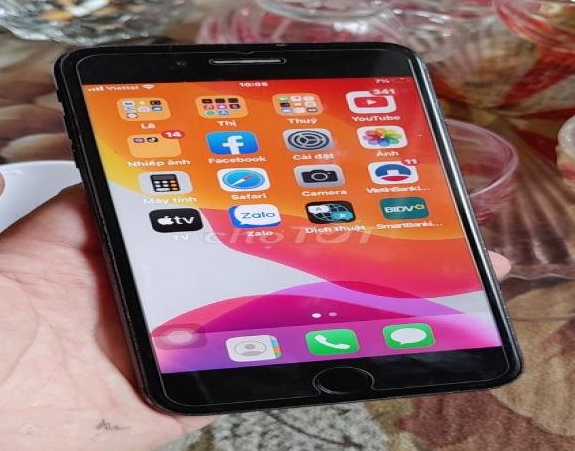physical_damage: (226, 43, 264, 57)
scratch: (37, 74, 115, 258), (465, 230, 536, 353), (88, 289, 161, 372), (414, 81, 474, 131), (45, 53, 90, 68), (255, 39, 294, 51), (157, 41, 191, 54)
